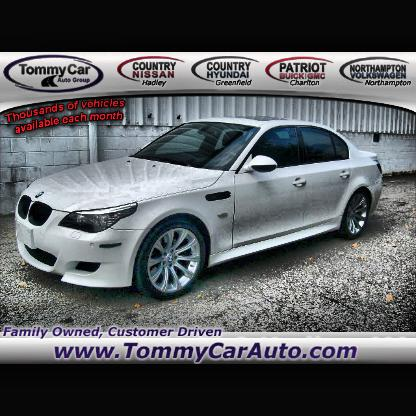BMW M5 Sedan 2010: (17, 117, 382, 302)
